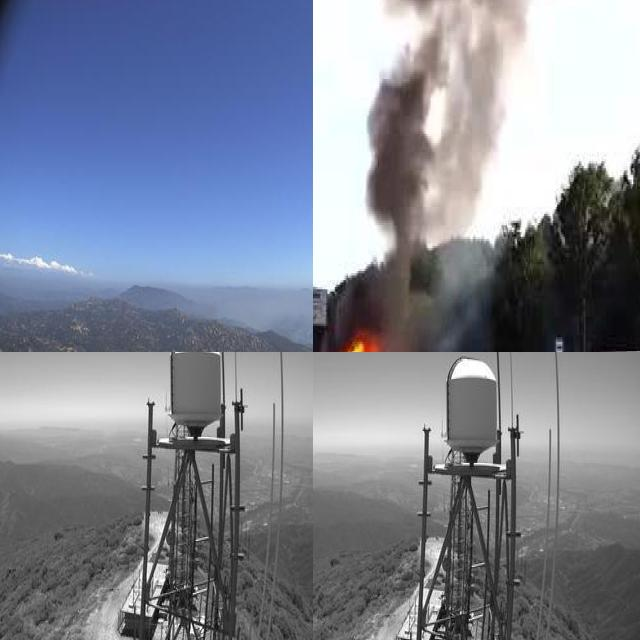smoke: (363, 0, 589, 352), (228, 285, 313, 352)
